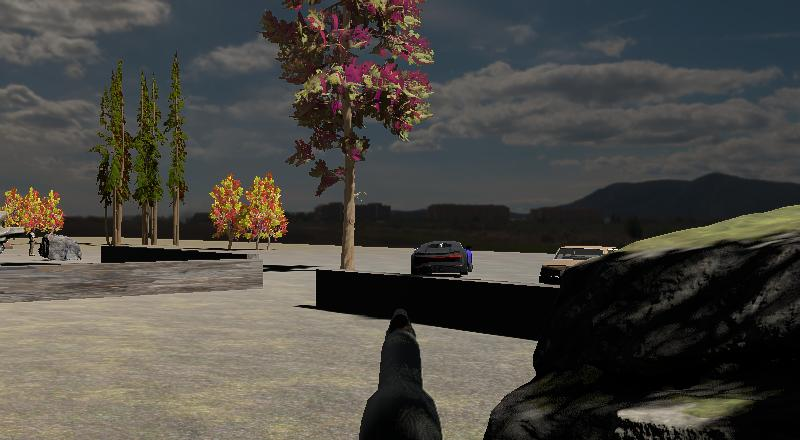car: (536, 243, 623, 288), (409, 237, 475, 279)
